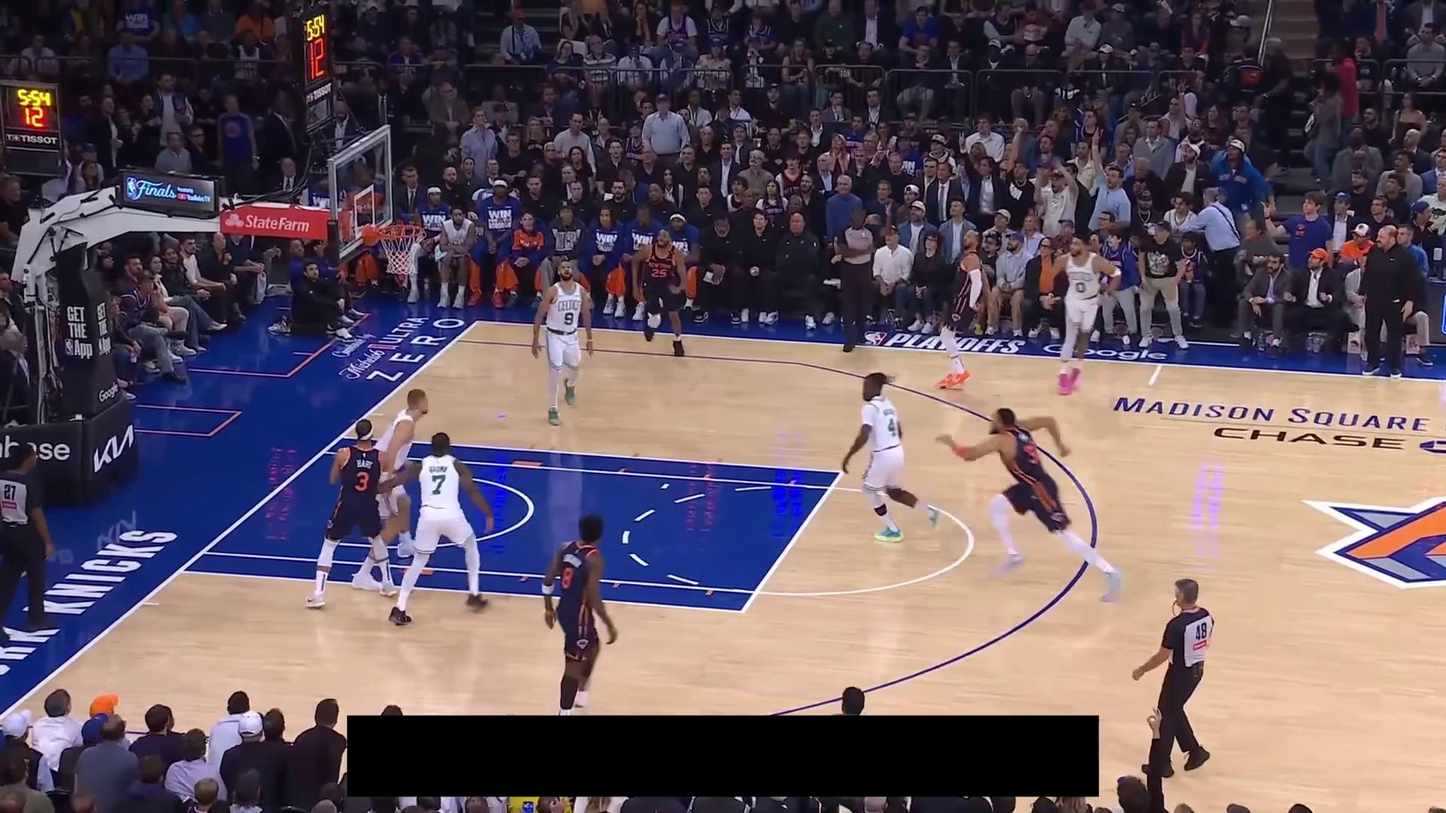ball: (578, 0, 606, 13)
number: (431, 473, 447, 495), (354, 470, 370, 492), (561, 567, 574, 590), (651, 266, 668, 278), (563, 310, 575, 327), (887, 417, 897, 437), (1075, 280, 1087, 294)
player: (932, 406, 1126, 606), (374, 432, 495, 626), (304, 418, 401, 610), (840, 371, 942, 544), (350, 387, 433, 592), (541, 513, 619, 715), (1039, 233, 1123, 397), (531, 260, 595, 426), (932, 229, 992, 390), (630, 227, 685, 357)
referee: (1132, 577, 1214, 778), (0, 443, 60, 645), (831, 207, 889, 353)
rim: (377, 224, 426, 239)
